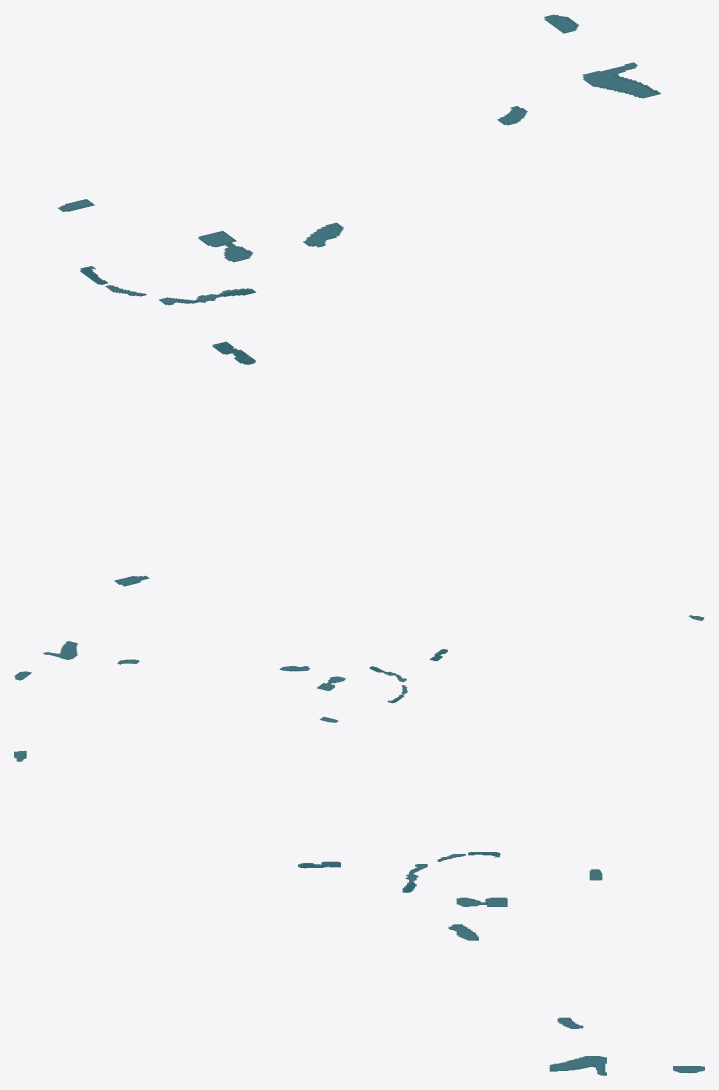
Rendered from water_ring0_osm_lakes.glb.
3 views of the same model, one above another, from view 1: azimuth 30°, elevation 25°; view 2: azimuth 150°, elevation 25°; view 3: azimuth 270°, elevation 25° (orthographic). The views are drawn at different scales.
Parts seen in each view (by area): view 1: water_ring0_osm_lakes_surface; view 2: water_ring0_osm_lakes_surface; view 3: water_ring0_osm_lakes_surface.
Boxes of the visible parts, x1,y1,x2,y2 form: water_ring0_osm_lakes_surface: [58, 14, 661, 586]; water_ring0_osm_lakes_surface: [14, 615, 704, 722]; water_ring0_osm_lakes_surface: [14, 751, 704, 1075].
Size of the model in its own units: 4660 by 20.92 by 4171.
